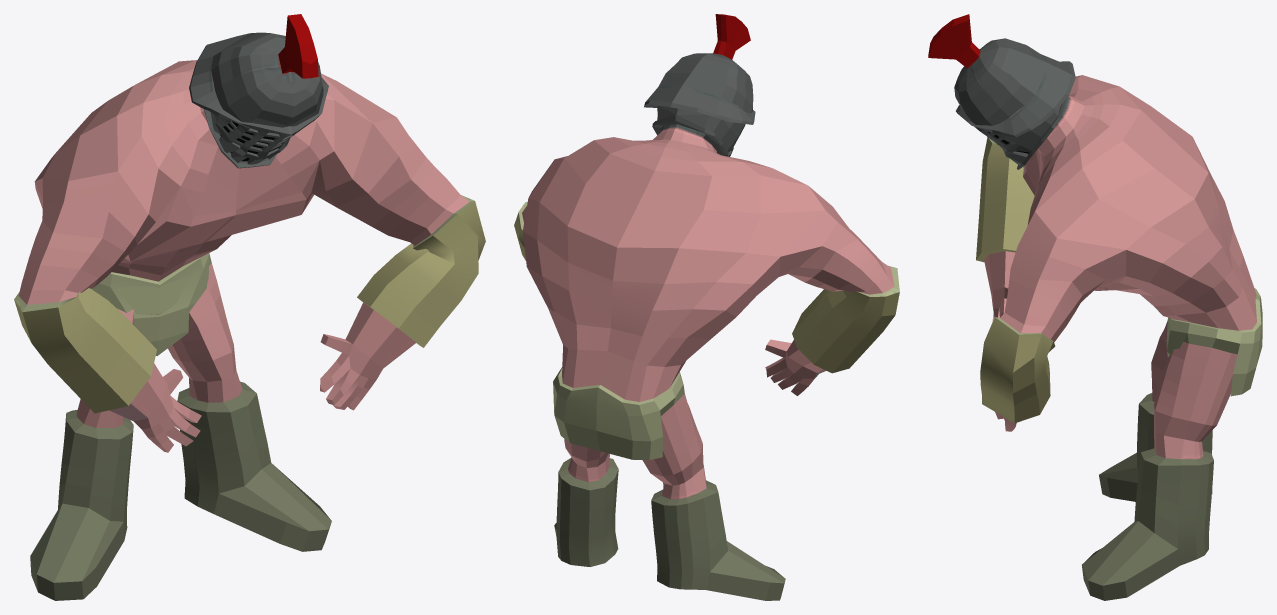
The model's file is GladiatorCelebracion_000489.obj.
3 views of the same model, side by side, from view 1: azimuth 30°, elevation 25°; view 2: azimuth 150°, elevation 25°; view 3: azimuth 270°, elevation 25° (orthographic). The views are drawn at different scales.
Visible parts, largest first — view 1: Gadiador_Gladiador_H; view 2: Gadiador_Gladiador_H; view 3: Gadiador_Gladiador_H.
Boxes of the visible parts, x1,y1,x2,y2 form: Gadiador_Gladiador_H: [14, 14, 485, 600]; Gadiador_Gladiador_H: [514, 14, 899, 600]; Gadiador_Gladiador_H: [928, 14, 1262, 600].
Bounding box in the file's own units: 5.06 × 6.39 × 3.6.
1 material, 1 textured.
